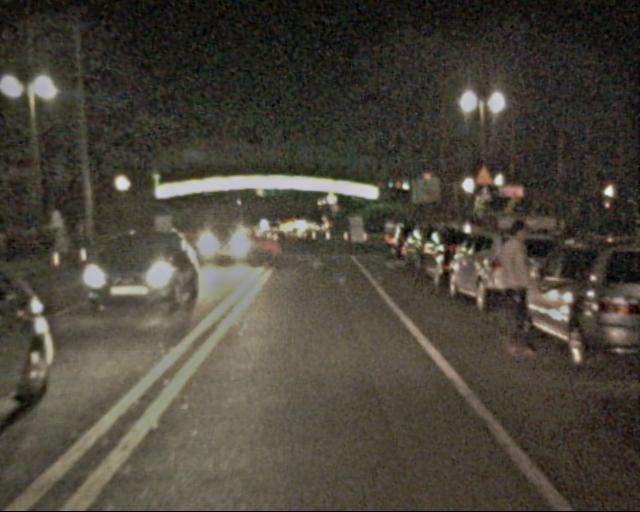person: (489, 218, 550, 360)
